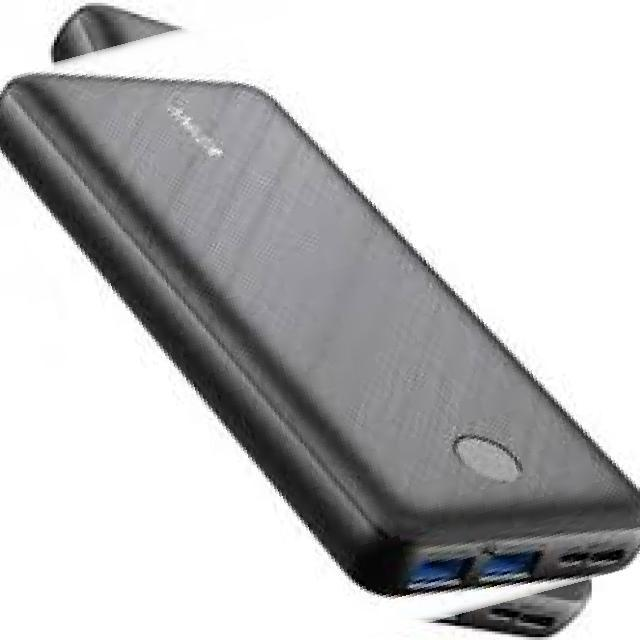Battery: (8, 61, 640, 602)
